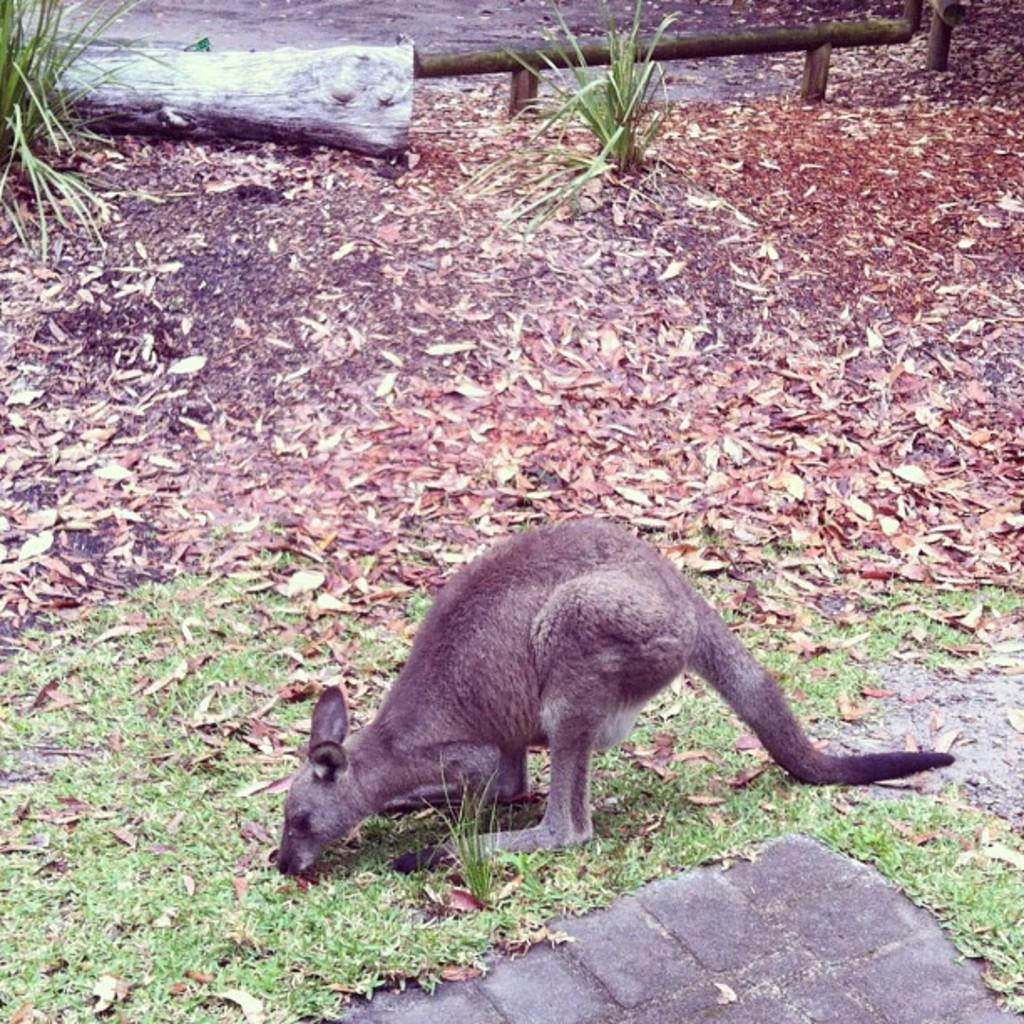kangaroo: (274, 518, 958, 866)
